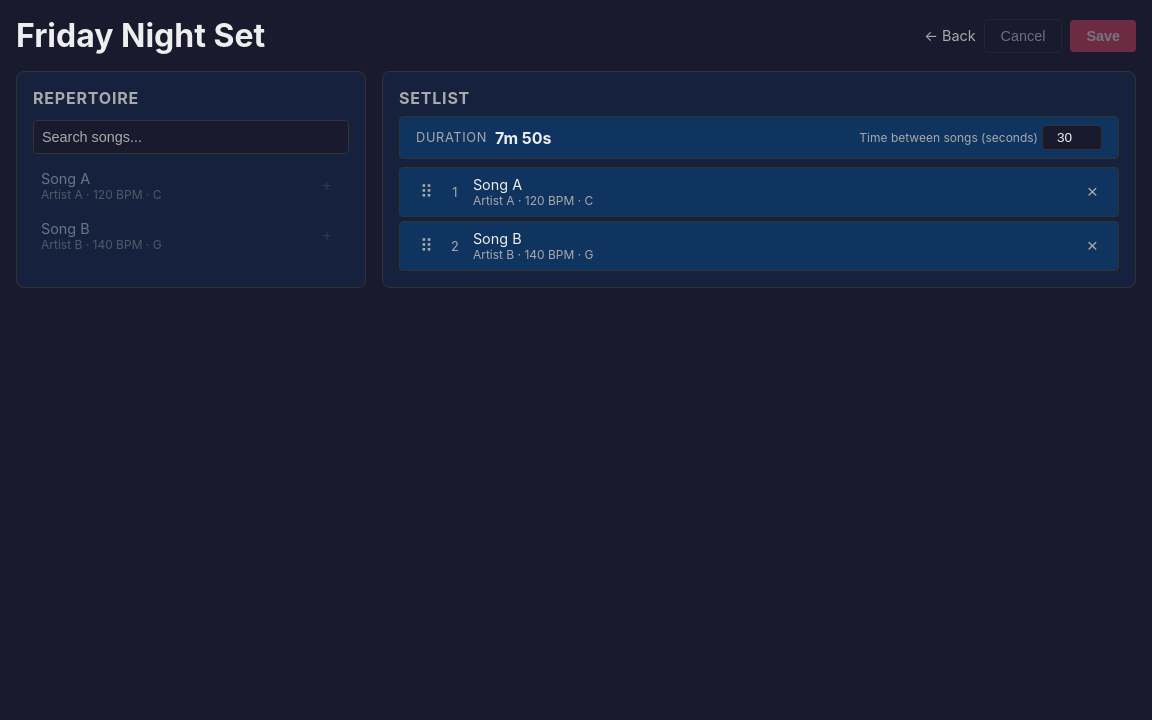
Test: Editor expand/collapse › expands a song card when clicked
The width and height of the screenshot is (1152, 720).
Click the text "Song A" below "7m 50s" at {"x": 498, "y": 184}, box [473, 176, 522, 193]
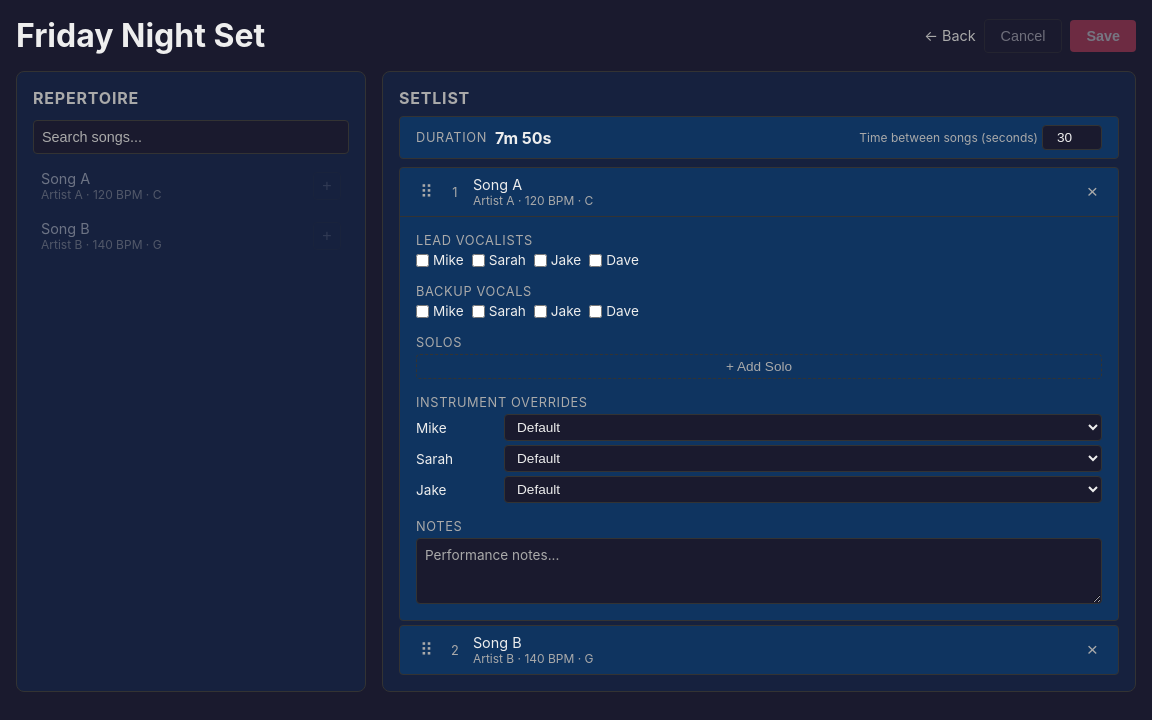
Check: the text "Lead Vocalists" is shown, box [416, 233, 533, 248]
